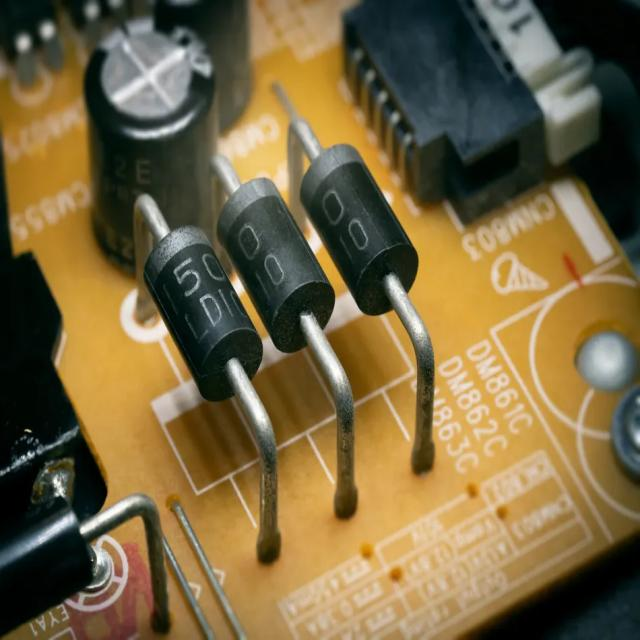Electrolytic capacitor: (81, 27, 230, 275)
diode: (146, 210, 258, 414), (304, 126, 415, 318), (229, 179, 327, 360)
